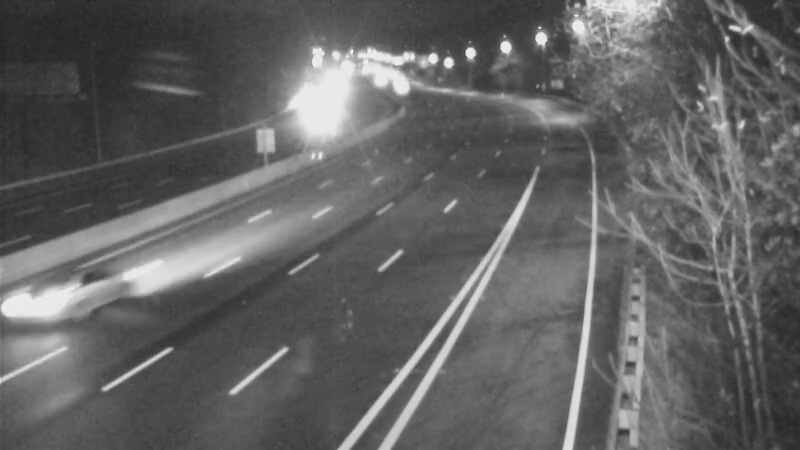vehicle: (39, 252, 119, 332)
